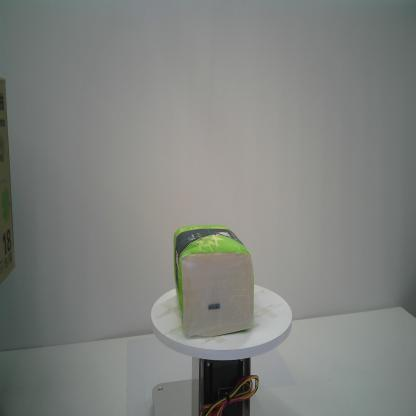Tissue: (172, 221, 256, 339)
